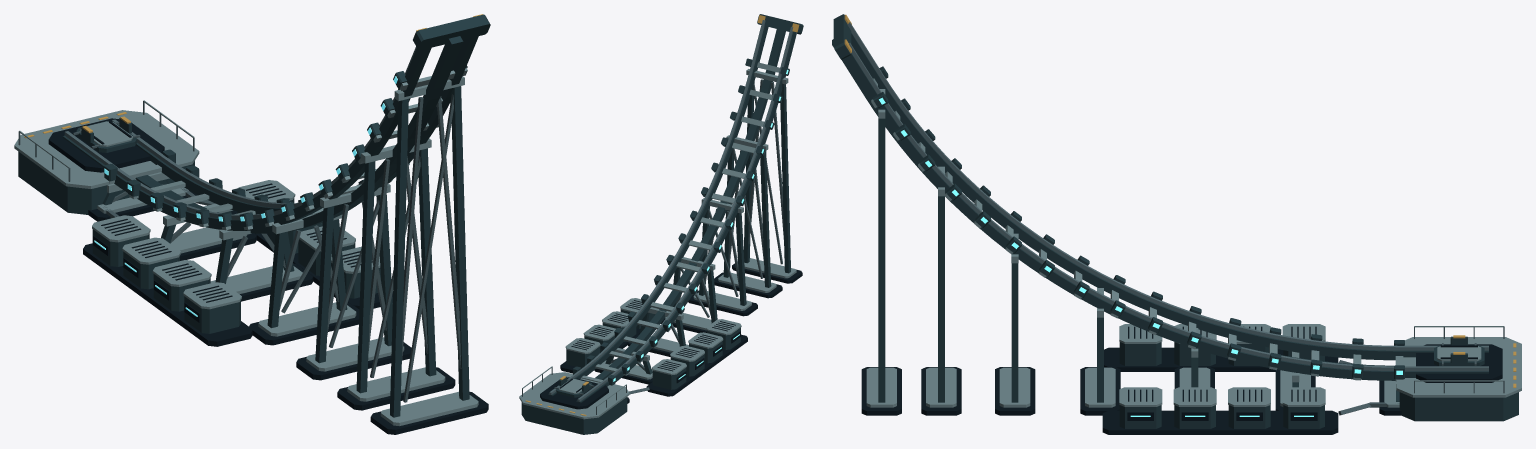
File: launcher_d0_lod1.glb
3 renders of one model, left to right at view 1: azimuth 30°, elevation 25°; view 2: azimuth 150°, elevation 25°; view 3: azimuth 270°, elevation 25°, orthographic. The views are drawn at different scales.
Visible parts, largest first — view 1: LAUNCHER_STRUCTURE, CONTINUOUS_RAILS, SLED_BODY, ACCELERATOR_LIGHTS; view 2: LAUNCHER_STRUCTURE, CONTINUOUS_RAILS, SLED_BODY; view 3: LAUNCHER_STRUCTURE, CONTINUOUS_RAILS, SLED_BODY, ACCELERATOR_LIGHTS.
Part boxes in pixels (left/top/right/bottom): LAUNCHER_STRUCTURE: left=14, top=14, right=490, bottom=434; CONTINUOUS_RAILS: left=64, top=46, right=416, bottom=219; SLED_BODY: left=73, top=121, right=140, bottom=152; ACCELERATOR_LIGHTS: left=94, top=76, right=397, bottom=316; LAUNCHER_STRUCTURE: left=519, top=14, right=803, bottom=434; CONTINUOUS_RAILS: left=549, top=20, right=793, bottom=401; SLED_BODY: left=554, top=378, right=594, bottom=397; LAUNCHER_STRUCTURE: left=832, top=14, right=1521, bottom=434; CONTINUOUS_RAILS: left=847, top=22, right=1488, bottom=371; SLED_BODY: left=1434, top=343, right=1484, bottom=366; ACCELERATOR_LIGHTS: left=879, top=97, right=1402, bottom=416.
Bounding box in the file's own units: 13.1 × 27.02 × 46.23.
